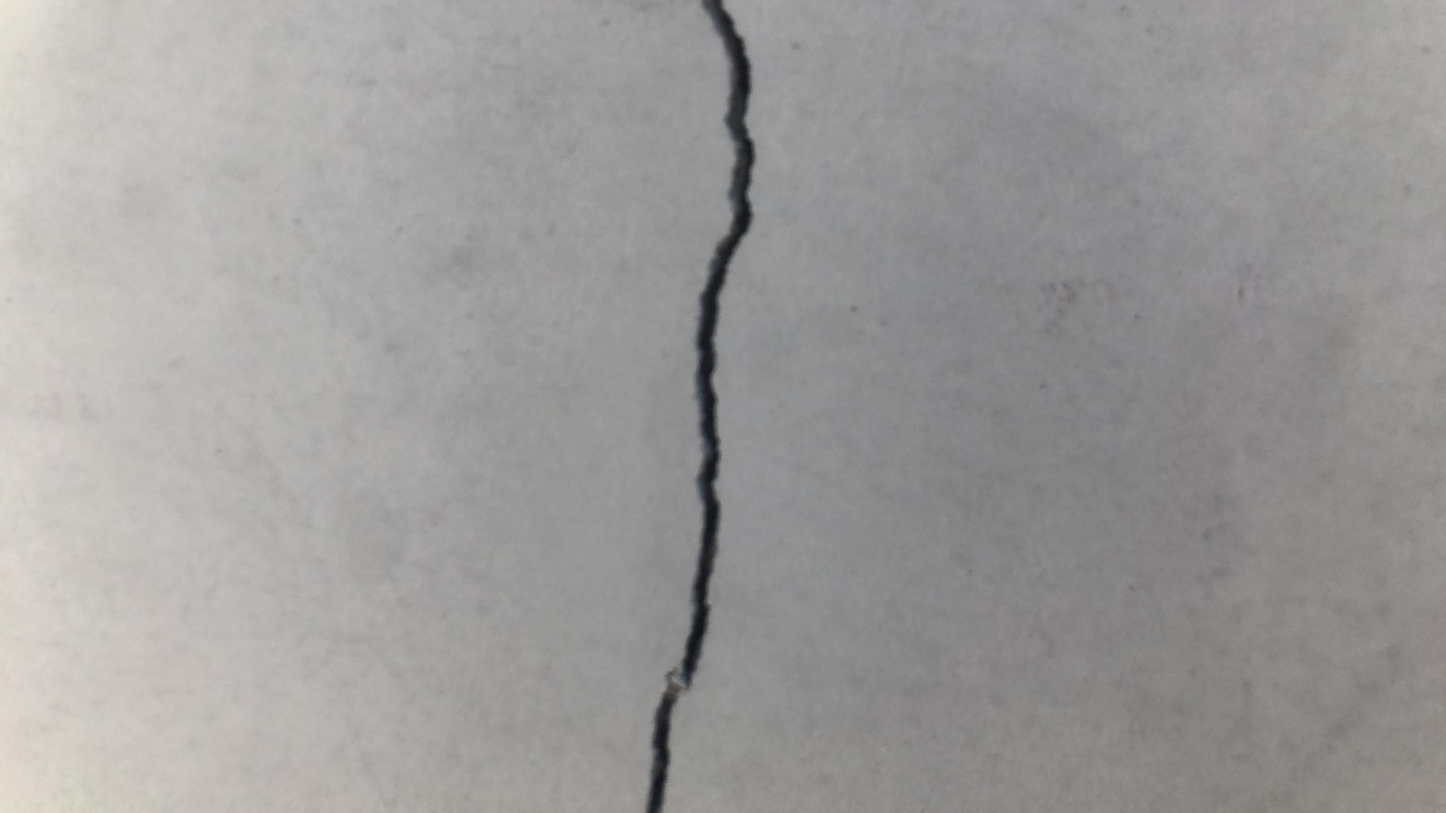crack: (627, 5, 763, 806)
